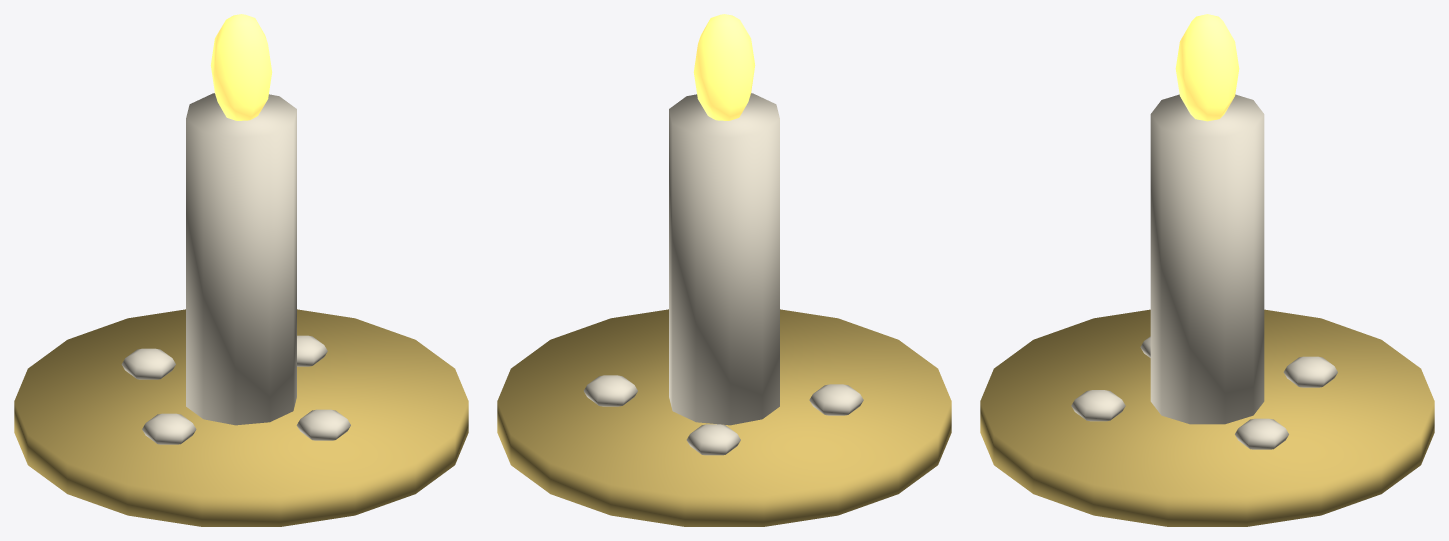
Rendered from serving_candle_plate.glb.
The picture shows the model from 3 angles, left to right: view 1: azimuth 30°, elevation 25°; view 2: azimuth 150°, elevation 25°; view 3: azimuth 270°, elevation 25°; orthographic projection.
Visible parts, largest first — view 1: GD_serving_candle_plate__m0, GD_serving_candle_plate__m1, GD_serving_candle_plate__m2; view 2: GD_serving_candle_plate__m0, GD_serving_candle_plate__m1, GD_serving_candle_plate__m2; view 3: GD_serving_candle_plate__m0, GD_serving_candle_plate__m1, GD_serving_candle_plate__m2.
Boxes of the visible parts, x1,y1,x2,y2 form: GD_serving_candle_plate__m0: [14, 309, 468, 526]; GD_serving_candle_plate__m1: [121, 93, 350, 444]; GD_serving_candle_plate__m2: [210, 14, 272, 120]; GD_serving_candle_plate__m0: [497, 309, 951, 526]; GD_serving_candle_plate__m1: [584, 93, 863, 455]; GD_serving_candle_plate__m2: [693, 14, 755, 120]; GD_serving_candle_plate__m0: [980, 309, 1434, 526]; GD_serving_candle_plate__m1: [1071, 94, 1337, 449]; GD_serving_candle_plate__m2: [1175, 14, 1239, 121].
Size of the model in its own units: 0.197 by 0.2031 by 0.2.
